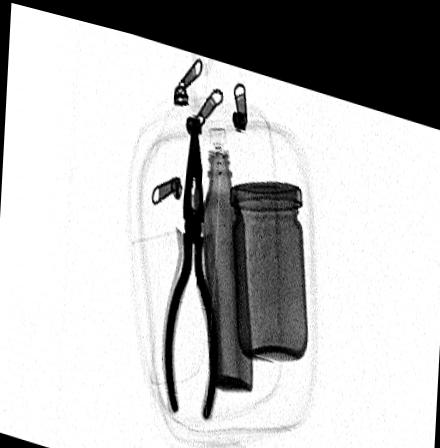Pliers: (163, 97, 218, 411)
